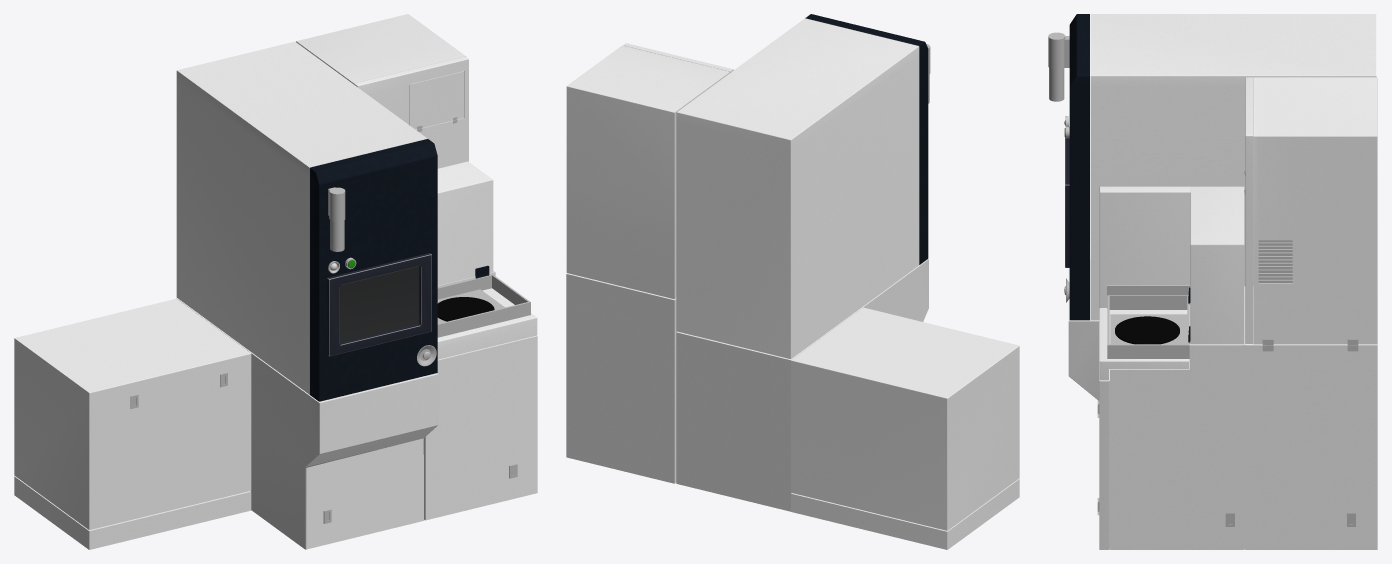
The model's file is waterjet.fbx.
The picture shows the model from 3 angles, left to right: view 1: azimuth 30°, elevation 25°; view 2: azimuth 150°, elevation 25°; view 3: azimuth 270°, elevation 25°; orthographic projection. The views are drawn at different scales.
Parts seen in each view (by area): view 1: Box078; view 2: Box078; view 3: Box078.
Boxes of the visible parts, x1,y1,x2,y2 form: Box078: (14,14,537,549); Box078: (566,14,1019,549); Box078: (1048,14,1377,549).
Bounding box in the file's own units: 260 × 174 × 242.
